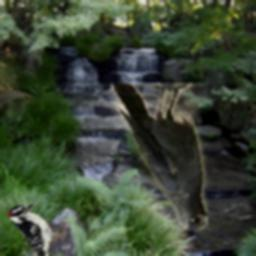Crow: (112, 84, 209, 231)
Woodpecker: (7, 203, 73, 256)
